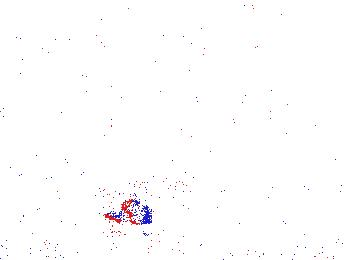flame jellyfish: (106, 173, 194, 226), (53, 147, 121, 201), (18, 158, 74, 208)
